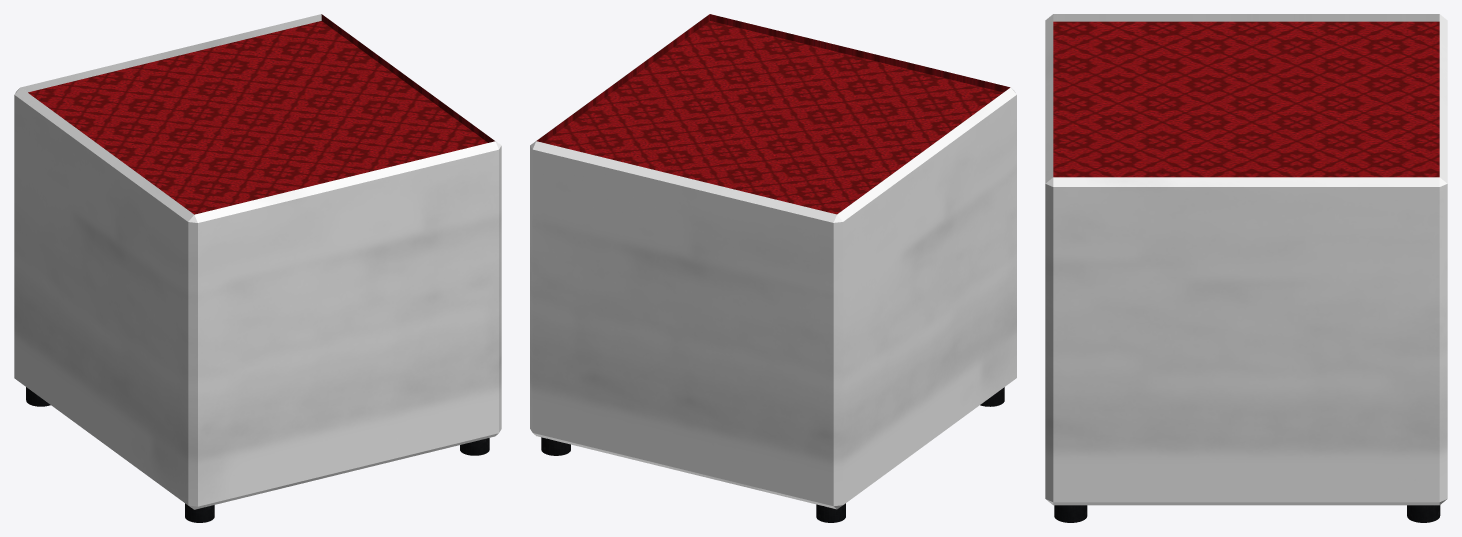
File: Tu_to_khong_kinh.obj
3 renders of one model, left to right at view 1: azimuth 30°, elevation 25°; view 2: azimuth 150°, elevation 25°; view 3: azimuth 270°, elevation 25°, orthographic. The views are drawn at different scales.
Parts seen in each view (by area): view 1: Tu_to_Cube.001, chan_Cylinder; view 2: Tu_to_Cube.001, chan_Cylinder; view 3: Tu_to_Cube.001, chan_Cylinder.
Part boxes in pixels (<box>): Tu_to_Cube.001: <box>14,14,501,509</box>; chan_Cylinder: <box>26,387,489,522</box>; Tu_to_Cube.001: <box>530,14,1016,509</box>; chan_Cylinder: <box>541,387,1004,522</box>; Tu_to_Cube.001: <box>1045,14,1447,505</box>; chan_Cylinder: <box>1054,505,1440,522</box>.
Size of the model in its own units: 1 by 0.948 by 1.
